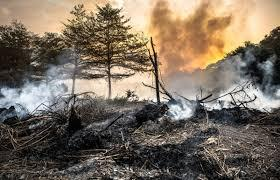yanwu: (138, 0, 279, 119), (1, 54, 77, 122)
